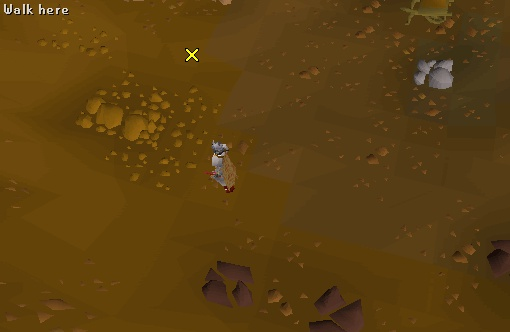iron: (199, 254, 265, 311)
